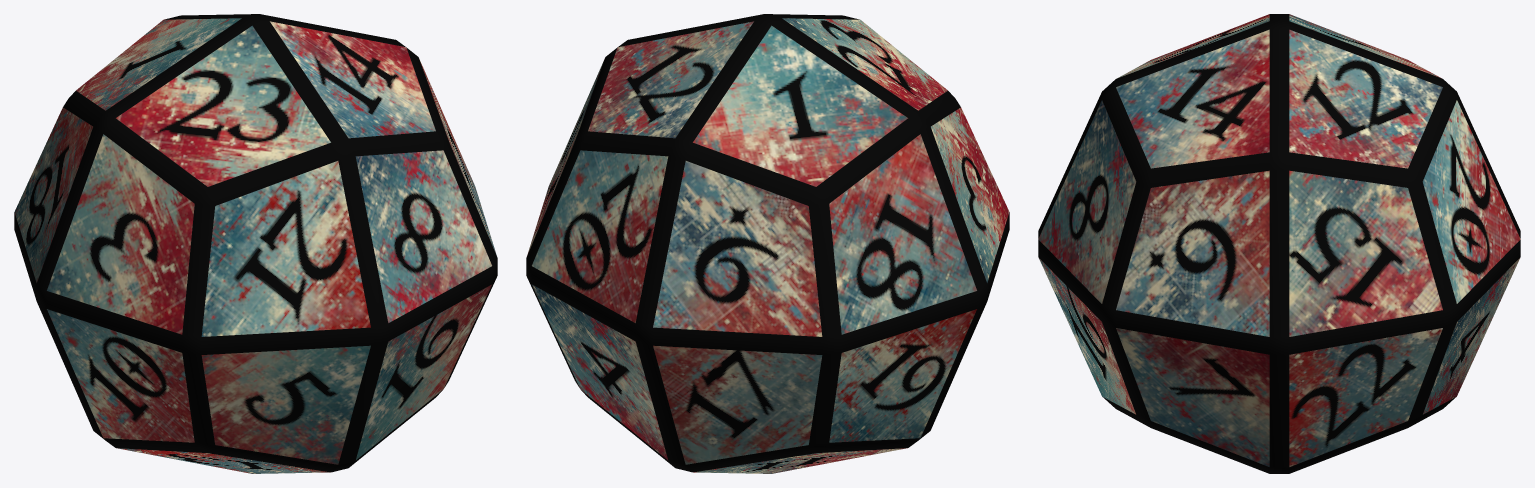
The model's file is chanced24.glb.
3 renders of one model, left to right at view 1: azimuth 30°, elevation 25°; view 2: azimuth 150°, elevation 25°; view 3: azimuth 270°, elevation 25°, orthographic. The views are drawn at different scales.
Parts seen in each view (by area): view 1: Mesh_0; view 2: Mesh_0; view 3: Mesh_0.
Boxes of the visible parts, box(x1,y1,x2,y2) form: Mesh_0: box(14, 14, 497, 473); Mesh_0: box(526, 14, 1009, 473); Mesh_0: box(1038, 14, 1520, 473).
Size of the model in its own units: 187 by 187 by 187.
Materials: 1 (1 with a texture image).
